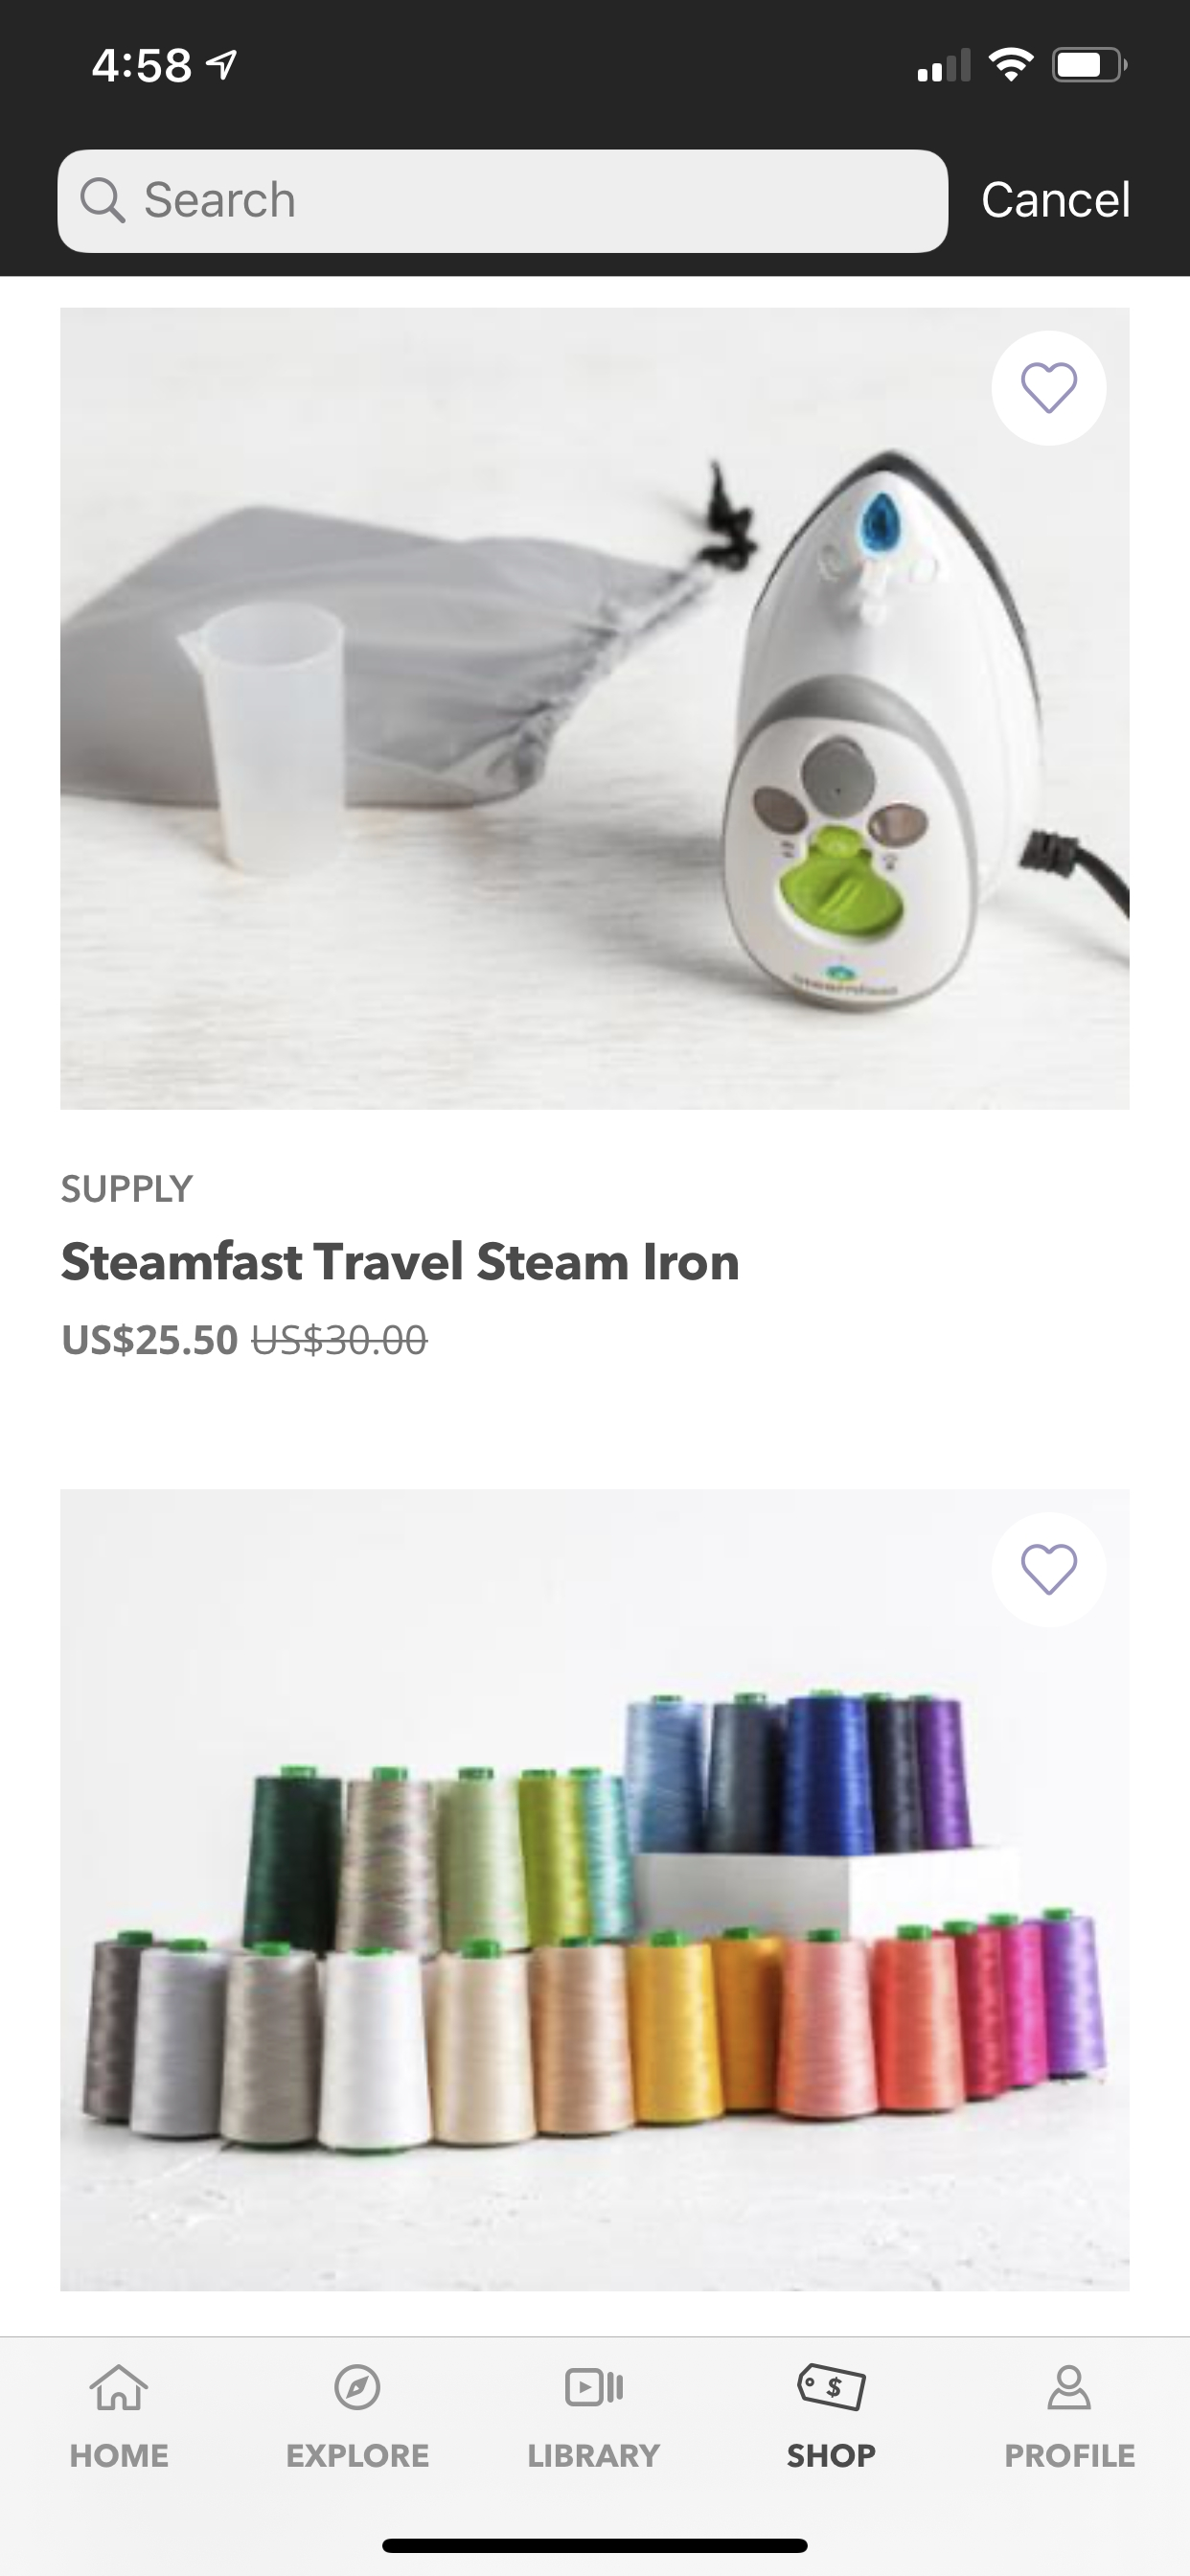EditText: (58, 149, 948, 255)
Icon: (991, 330, 1106, 447), (991, 1513, 1106, 1628), (797, 2362, 866, 2412), (89, 2362, 148, 2410), (565, 2367, 623, 2407), (334, 2362, 380, 2410), (81, 177, 127, 223), (1047, 2364, 1091, 2410)
Image: (61, 307, 1129, 1111), (61, 1490, 1129, 2292)
Text: (61, 1239, 738, 1280), (62, 1324, 429, 1357), (146, 181, 294, 218), (983, 181, 1129, 218), (61, 1175, 194, 1203), (288, 2443, 429, 2468), (529, 2443, 661, 2468), (1004, 2443, 1136, 2468), (71, 2443, 169, 2468), (787, 2443, 876, 2468)
UpperTaskBar: (94, 48, 1128, 84)
